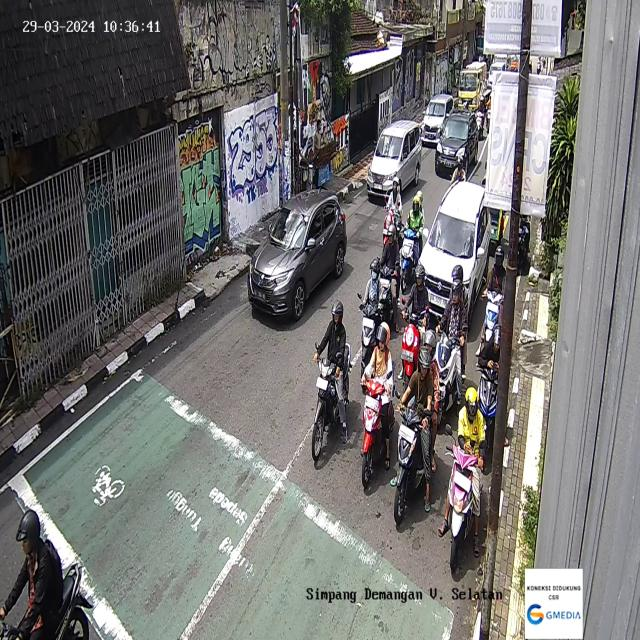car: (247, 188, 347, 322), (417, 179, 491, 331), (366, 119, 422, 203), (434, 110, 478, 178), (421, 92, 453, 146)
motorcycle: (0, 503, 94, 640), (392, 330, 440, 526), (442, 386, 484, 577), (311, 300, 351, 462), (360, 323, 395, 490), (434, 264, 468, 426), (399, 263, 429, 396), (475, 325, 502, 470), (477, 241, 506, 361), (357, 257, 384, 382), (376, 224, 401, 335), (400, 190, 424, 292), (381, 176, 403, 260)
truck: (459, 61, 486, 111)
